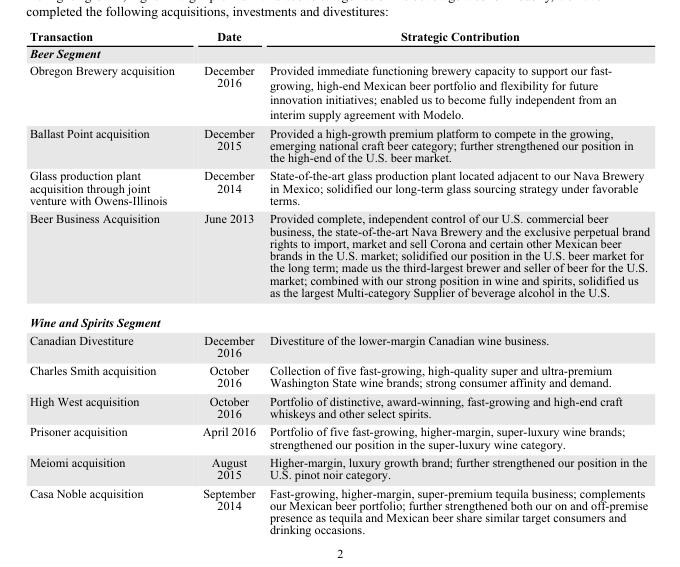table: (28, 28, 649, 536)
table column: (262, 28, 649, 536), (28, 28, 187, 536), (187, 28, 262, 536)
table column header: (28, 28, 649, 44)
table projected row header: (28, 306, 649, 330), (28, 44, 649, 61)
table row: (28, 208, 649, 306), (28, 61, 649, 123), (28, 483, 649, 536), (28, 123, 649, 166), (28, 166, 649, 208), (28, 360, 649, 391), (28, 391, 649, 422), (28, 452, 649, 483), (28, 330, 649, 360), (28, 422, 649, 452), (28, 306, 649, 330), (28, 44, 649, 61), (28, 28, 649, 44)
